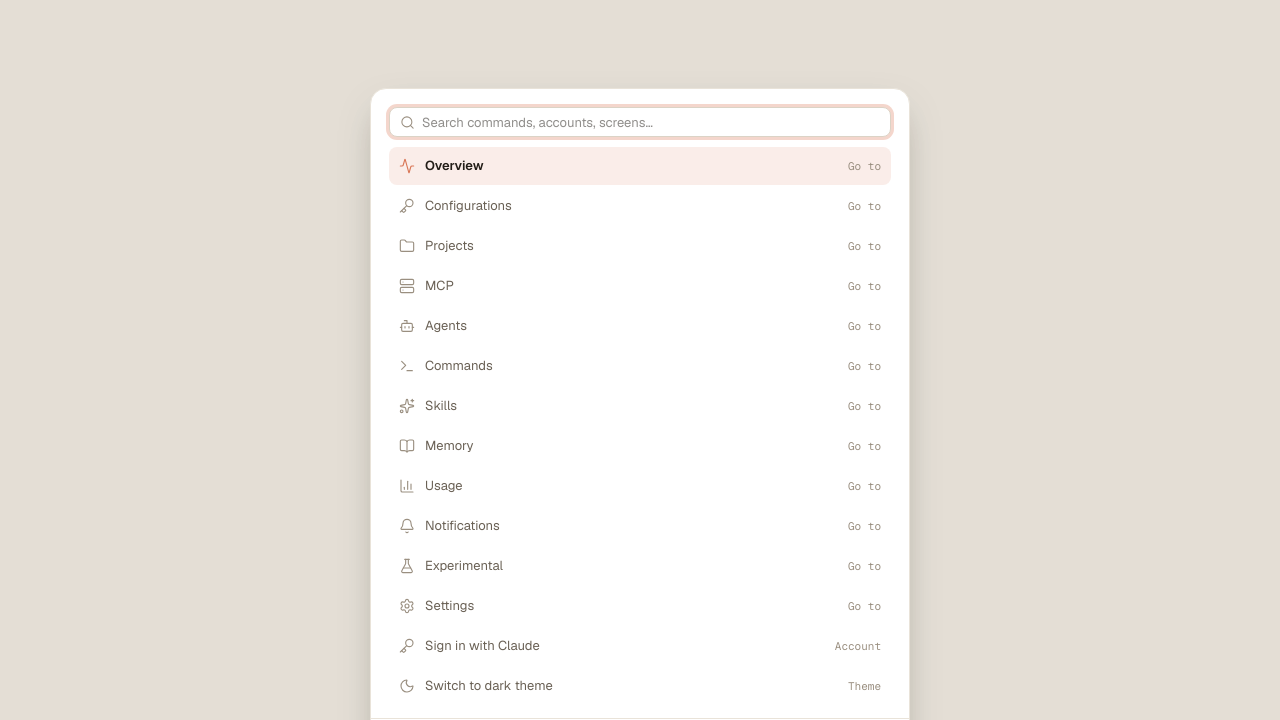
Test: CommandPalette › shows a 'No results' row when nothing matches
The image size is (1280, 720).
Type "zzzzz" into the field labelled "Search commands, accounts, screens…".
click(651, 122); type("zzzzz")  # box [422,114,880,130]
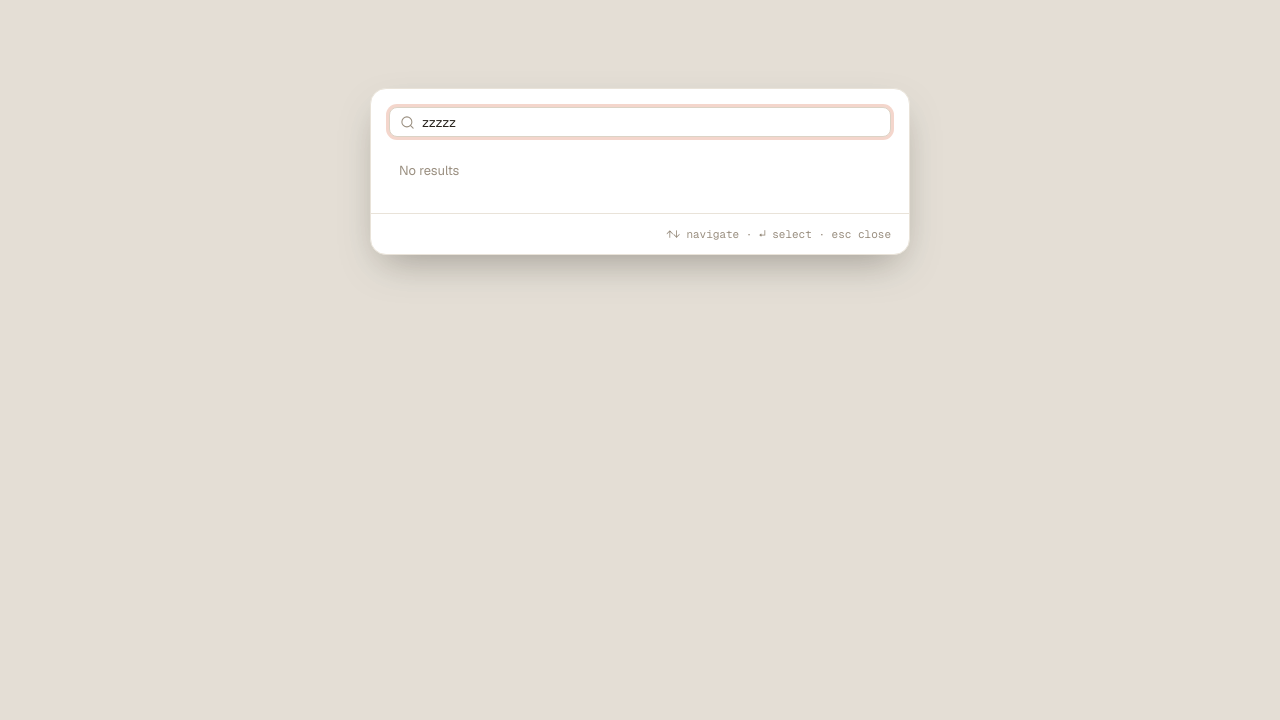
Now no options are shown
Now the text "No results" is shown, box [399,162,459,179]
